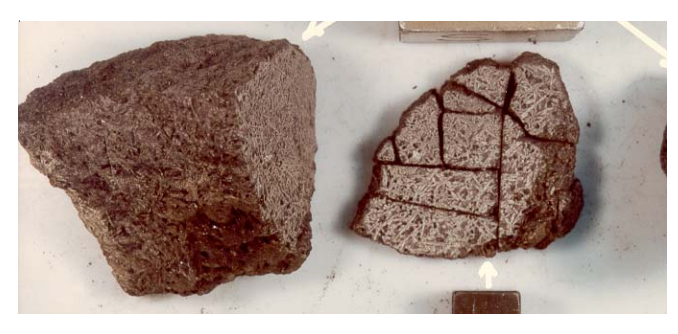Basalt: (51, 33, 343, 305), (346, 42, 605, 269)
